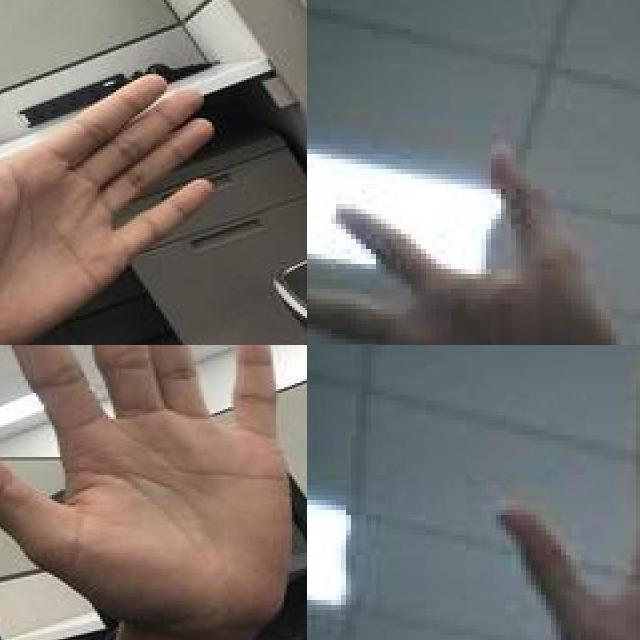no-gloves: (0, 345, 297, 627), (307, 134, 616, 345), (0, 70, 220, 345), (491, 345, 640, 640)
